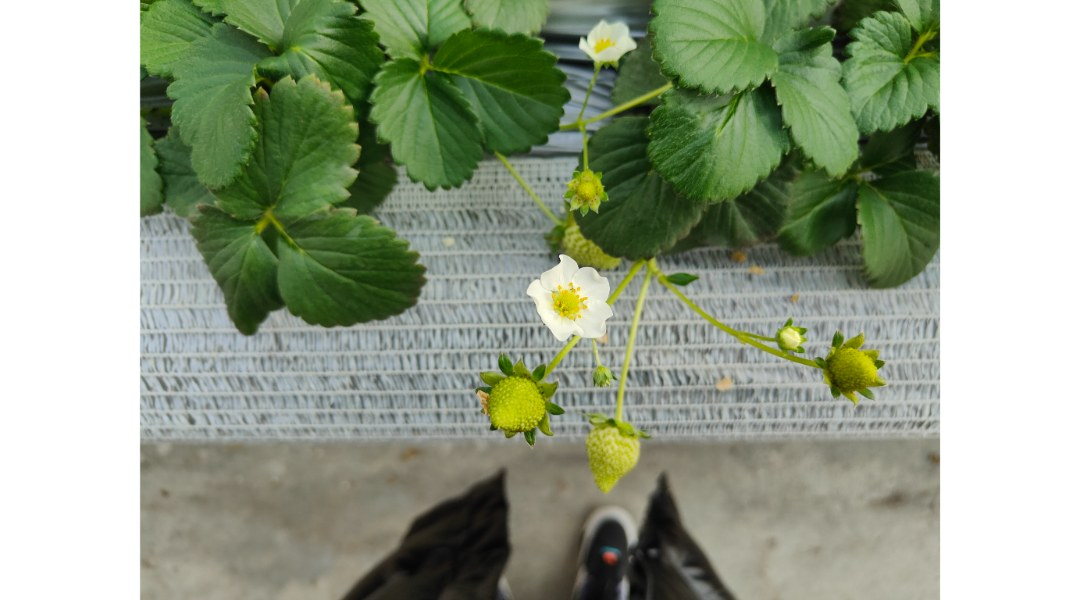berry: (460, 344, 567, 453), (820, 319, 894, 415), (586, 404, 651, 502), (764, 311, 813, 354)
flower: (525, 249, 612, 350), (567, 5, 636, 67)
strain: (666, 276, 761, 353), (485, 149, 554, 210), (617, 302, 647, 430), (591, 84, 673, 128)
